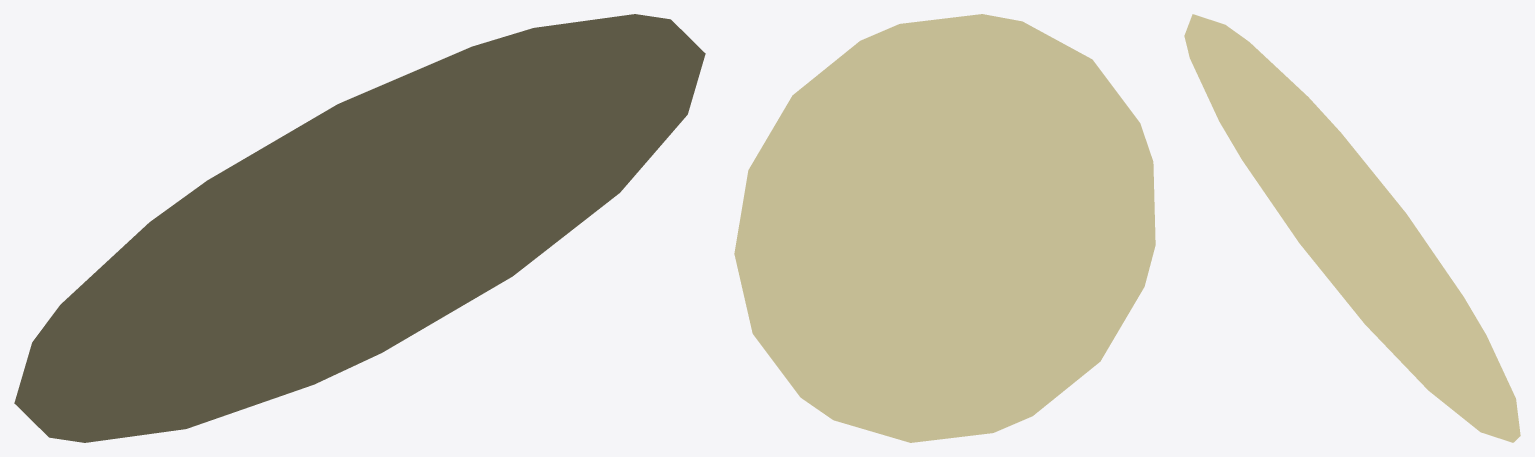
File: tom1.gltf
The picture shows the model from 3 angles, left to right: view 1: azimuth 30°, elevation 25°; view 2: azimuth 150°, elevation 25°; view 3: azimuth 270°, elevation 25°; orthographic projection. The views are drawn at different scales.
Parts seen in each view (by area): view 1: Tom1Surface; view 2: Tom1Surface; view 3: Tom1Surface.
Boxes of the visible parts, <box> form: Tom1Surface: <box>14,14,705,442</box>; Tom1Surface: <box>734,14,1155,442</box>; Tom1Surface: <box>1184,14,1520,442</box>.
Size of the model in its own units: 2.57 by 1.99 by 1.61.
Materials: 1 (1 with a texture image).
